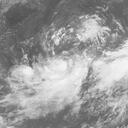cyclone: (28, 51, 86, 108)
